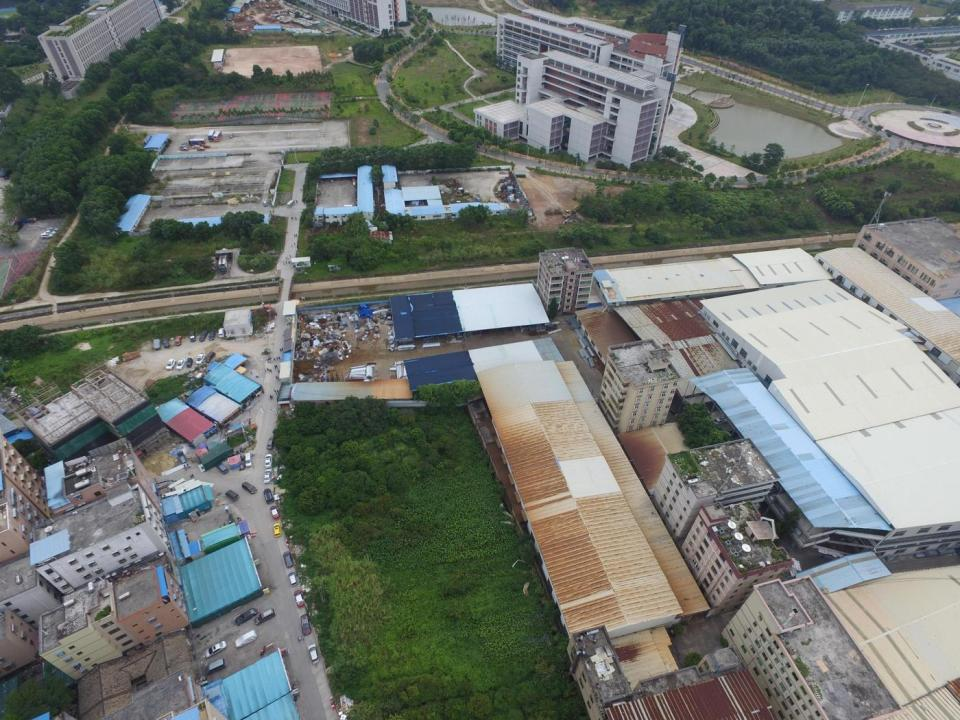bus: (188, 138, 206, 146), (213, 130, 222, 142), (207, 130, 215, 142)
car: (234, 607, 258, 625), (235, 628, 256, 648), (205, 640, 226, 658), (254, 608, 276, 625), (300, 614, 312, 635), (308, 643, 319, 664), (241, 481, 258, 494), (282, 550, 294, 568), (294, 589, 304, 609), (262, 488, 274, 504), (288, 570, 299, 587), (225, 489, 239, 501), (204, 350, 216, 363), (712, 415, 727, 425), (273, 522, 282, 538), (270, 506, 280, 520), (10, 221, 22, 232), (195, 352, 205, 365), (266, 436, 275, 450), (264, 454, 272, 468), (166, 358, 175, 370), (176, 358, 185, 370), (198, 330, 207, 342), (264, 469, 271, 484), (208, 329, 216, 341), (174, 335, 182, 346), (153, 338, 160, 350), (40, 233, 54, 239), (186, 357, 193, 368), (162, 338, 169, 348), (46, 226, 60, 231), (190, 331, 196, 342), (218, 327, 224, 338), (42, 230, 58, 234), (287, 200, 294, 207), (180, 146, 188, 151), (201, 144, 210, 148), (262, 200, 268, 206), (191, 145, 201, 148), (197, 147, 204, 151), (229, 132, 233, 138)
truck: (218, 255, 228, 274), (18, 216, 36, 224)
van: (205, 658, 226, 676), (216, 461, 228, 474), (245, 452, 252, 467)
